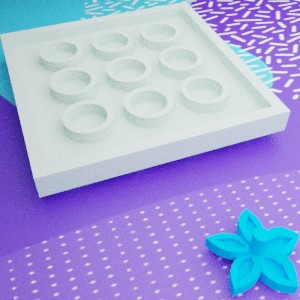lego: (0, 1, 290, 197), (204, 208, 300, 296)
